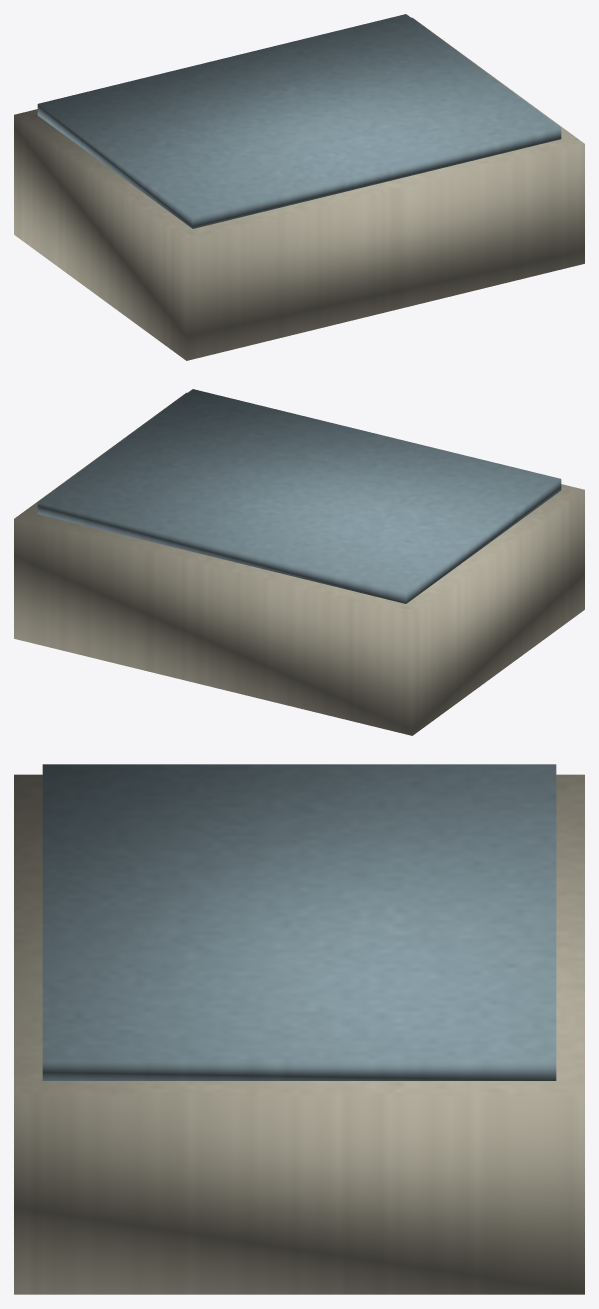
3 views of the same model, one above another, from view 1: azimuth 30°, elevation 25°; view 2: azimuth 150°, elevation 25°; view 3: azimuth 270°, elevation 25° (orthographic). The views are drawn at different scales.
Visible parts, largest first — view 1: 190_L115_Y1_IC_Ceramic, 190_L115_Y1_Shield_Titanium; view 2: 190_L115_Y1_IC_Ceramic, 190_L115_Y1_Shield_Titanium; view 3: 190_L115_Y1_Shield_Titanium, 190_L115_Y1_IC_Ceramic.
Part boxes in pixels (x1,y1,x2,y2): 190_L115_Y1_IC_Ceramic: (14, 17, 584, 360); 190_L115_Y1_Shield_Titanium: (37, 14, 561, 228); 190_L115_Y1_IC_Ceramic: (14, 392, 584, 735); 190_L115_Y1_Shield_Titanium: (37, 389, 561, 603); 190_L115_Y1_Shield_Titanium: (42, 764, 556, 1080); 190_L115_Y1_IC_Ceramic: (14, 774, 584, 1294).
Size of the model in its own units: 0.008 by 0.00271 by 0.006.
3 materials, 3 textured.
